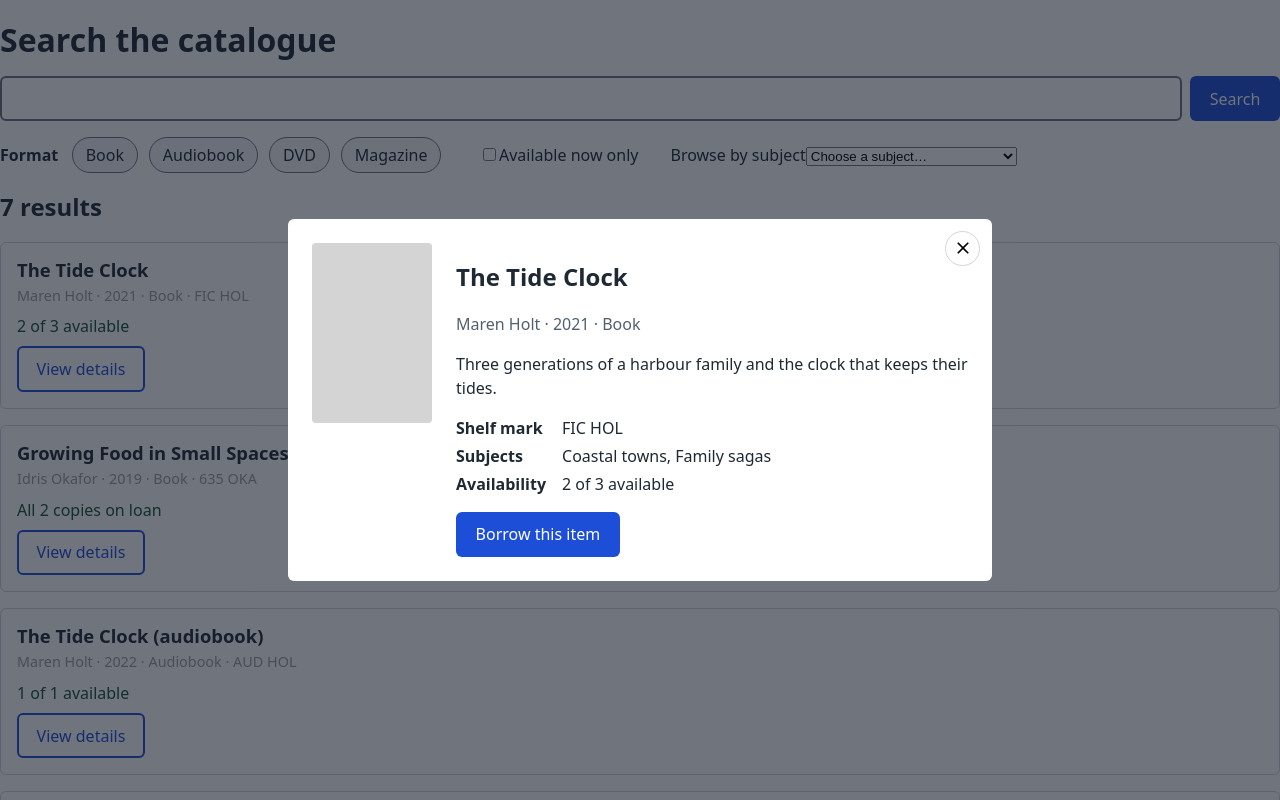
Test: SearchPage › shows the opened item and borrows it through the form
The image size is (1280, 800).
Click the button "Borrow this item".
click(538, 534)  # box [456,512,620,557]
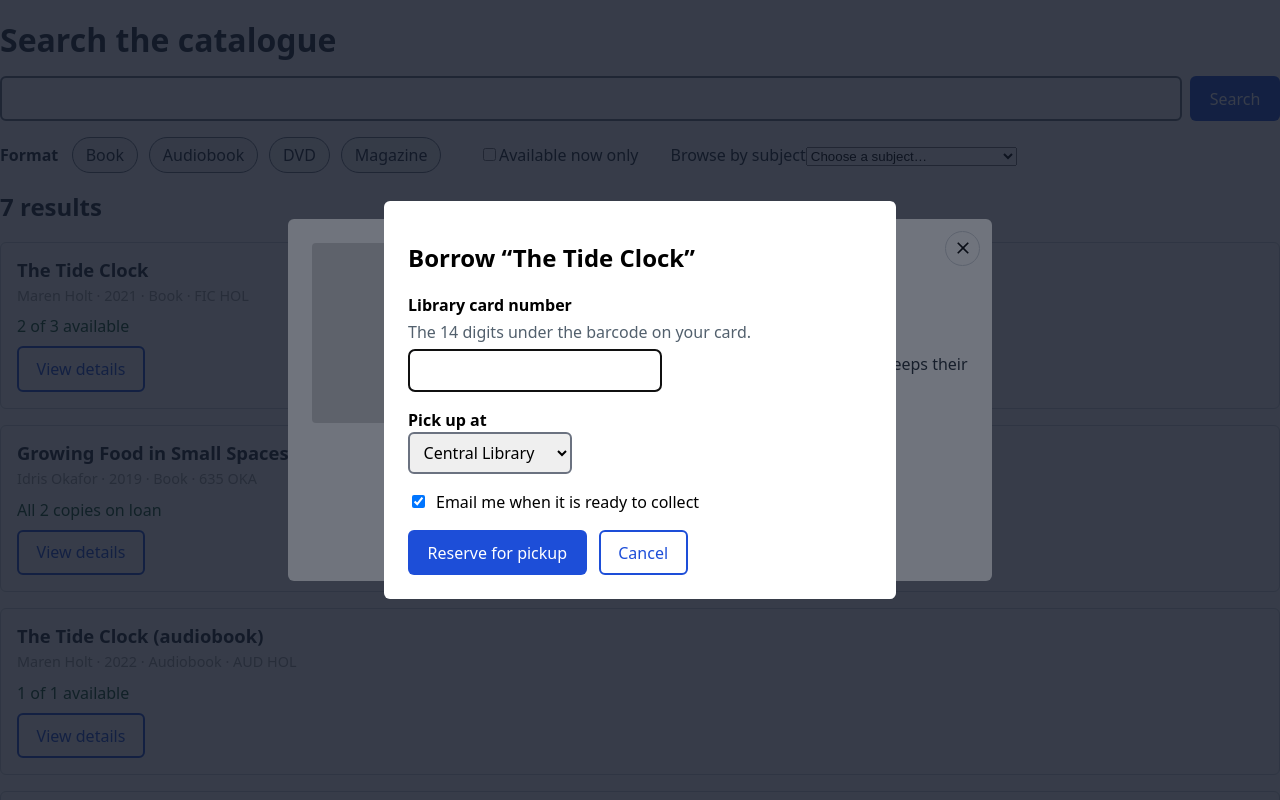
Type "12345678901234" into the field labelled "Library card number".
click(535, 370); type("12345678901234")  # box [408,349,662,392]
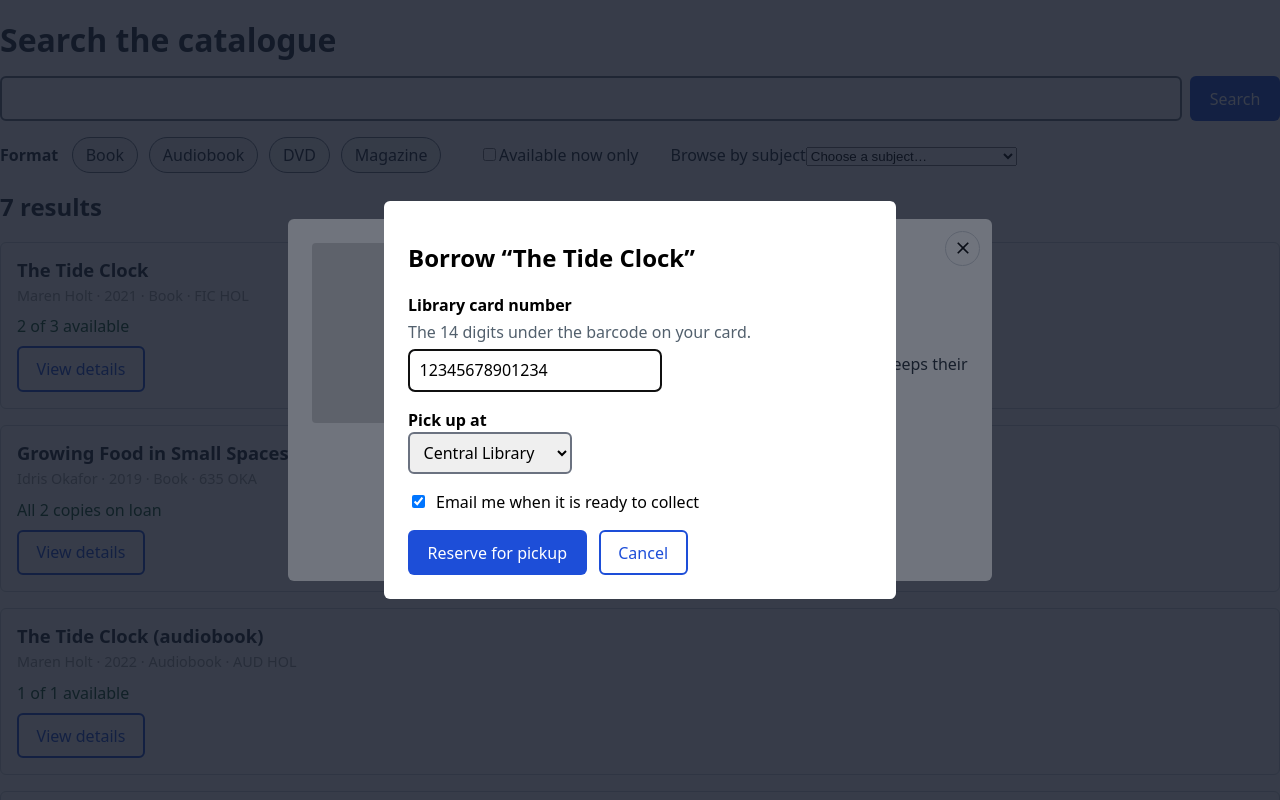
Click the button "Reserve for pickup".
click(497, 553)  # box [408,530,587,576]
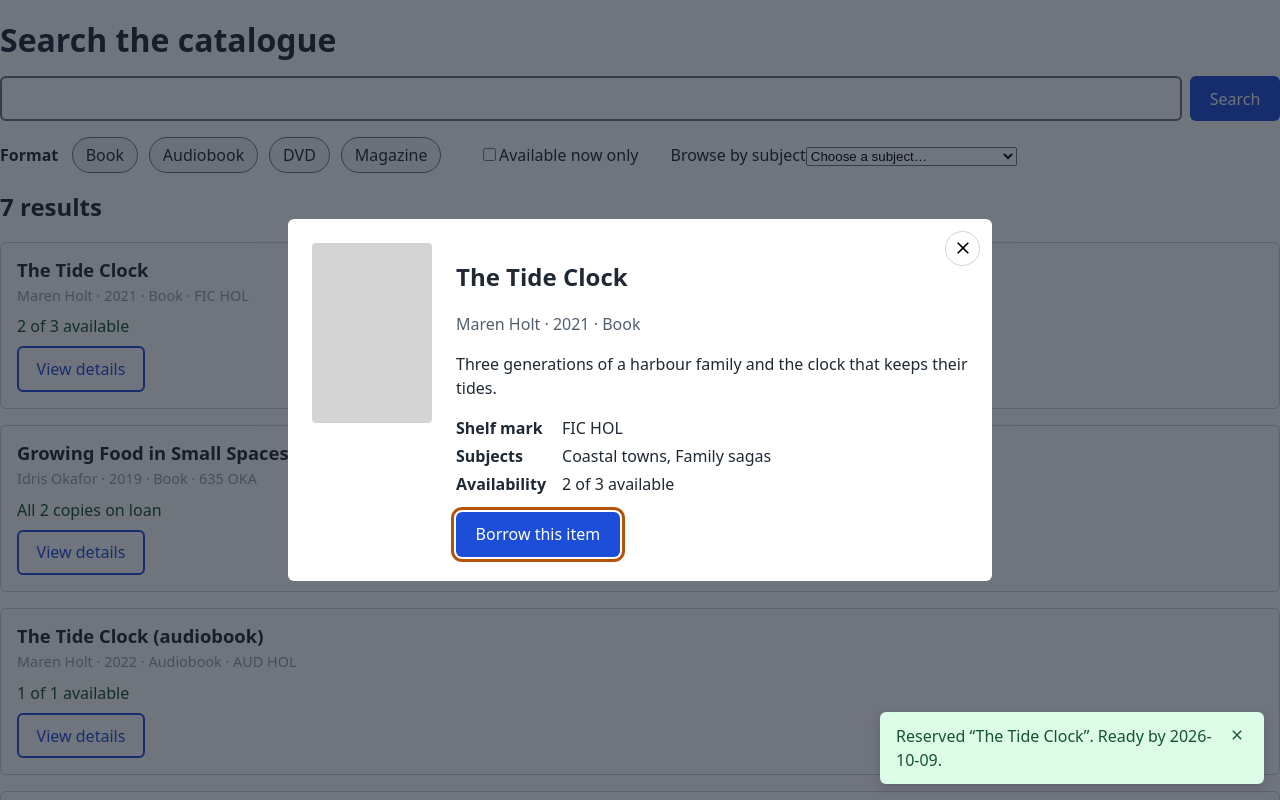
Expected: the text "Reserved “The Tide Clock”. Ready by 2026-10-09." is shown, [896,724,1214,772]
